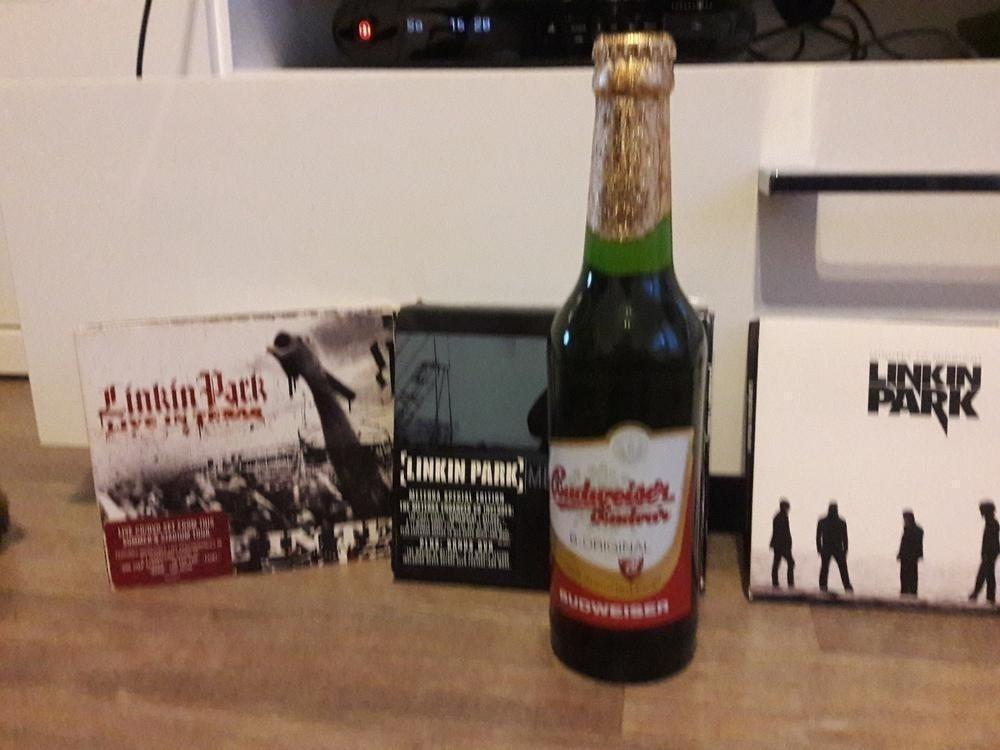bottle-glass: (545, 31, 706, 686)
